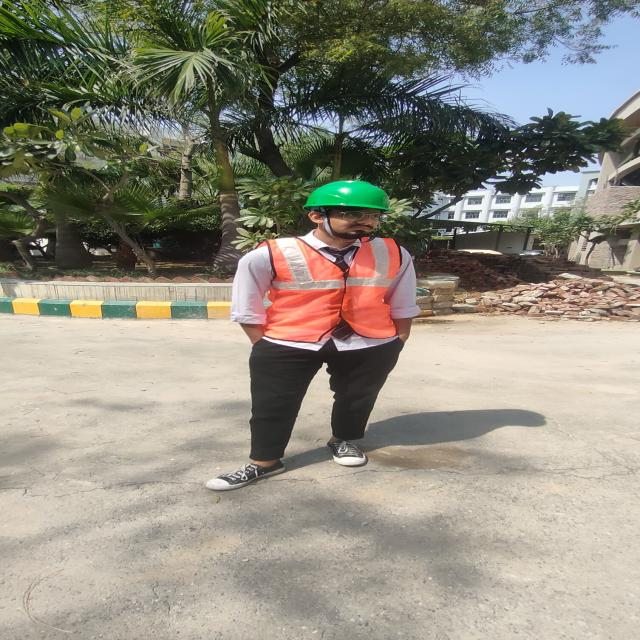safe: (206, 182, 416, 490)
